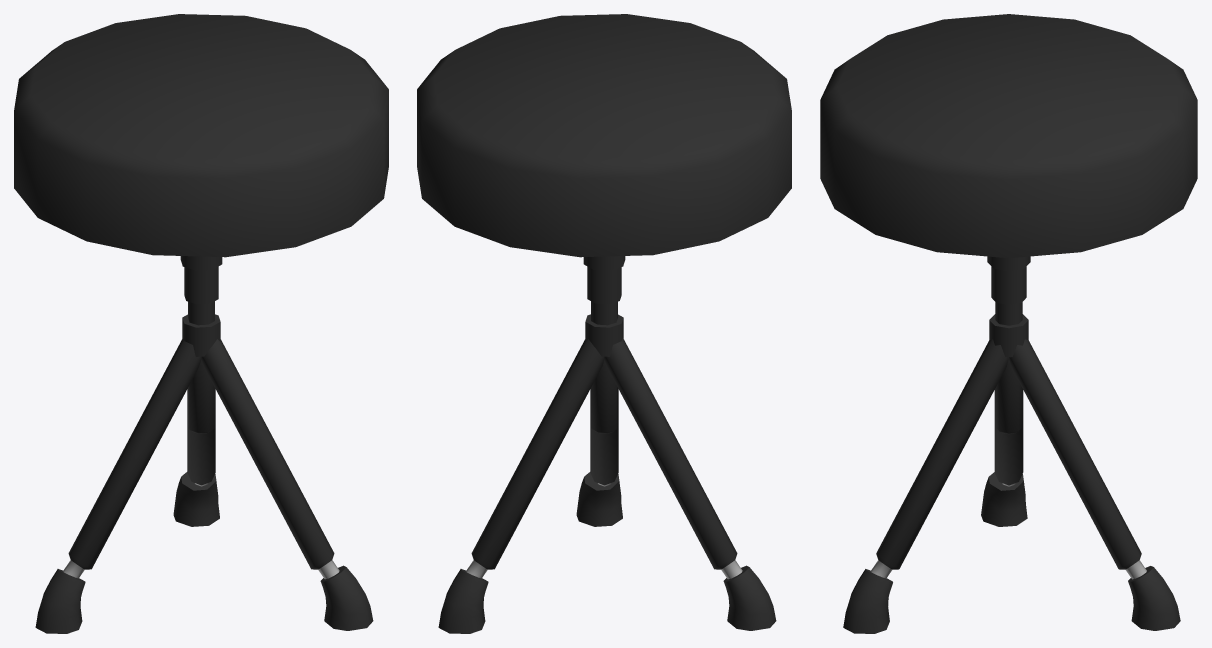
File: Seat_01.fbx
3 views of the same model, side by side, from view 1: azimuth 30°, elevation 25°; view 2: azimuth 150°, elevation 25°; view 3: azimuth 270°, elevation 25° (orthographic).
Visible parts, largest first — view 1: Seat_01; view 2: Seat_01; view 3: Seat_01.
Part boxes in pixels (bbox=[...]): Seat_01: bbox=[14, 14, 388, 633]; Seat_01: bbox=[417, 14, 791, 633]; Seat_01: bbox=[820, 14, 1197, 633].
Bounding box in the file's own units: 0.3592 × 0.5225 × 0.3569.
